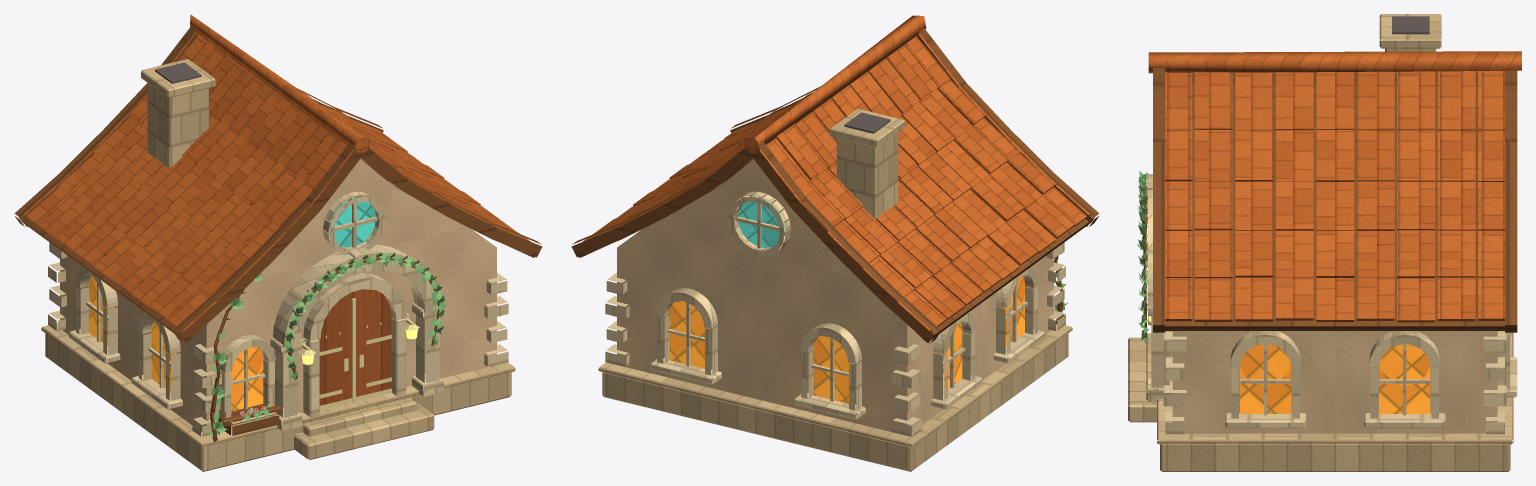
Rendered from cottage-clay-annex.glb.
3 views of the same model, side by side, from view 1: azimuth 30°, elevation 25°; view 2: azimuth 150°, elevation 25°; view 3: azimuth 270°, elevation 25° (orthographic). The views are drawn at different scales.
Visible parts, largest first — view 1: cottage-clay-annex; view 2: cottage-clay-annex; view 3: cottage-clay-annex.
Part boxes in pixels (bbox=[...]): cottage-clay-annex: bbox=[14, 14, 542, 471]; cottage-clay-annex: bbox=[571, 15, 1099, 471]; cottage-clay-annex: bbox=[1128, 14, 1521, 471].
Size of the model in its own units: 6.18 by 4.9 by 5.21.
14 materials, 8 textured.
